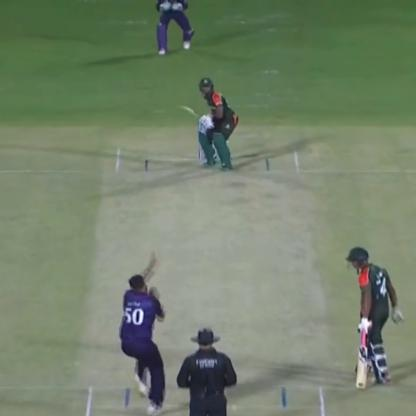bat: (170, 96, 216, 135)
pitch: (76, 142, 334, 415)
